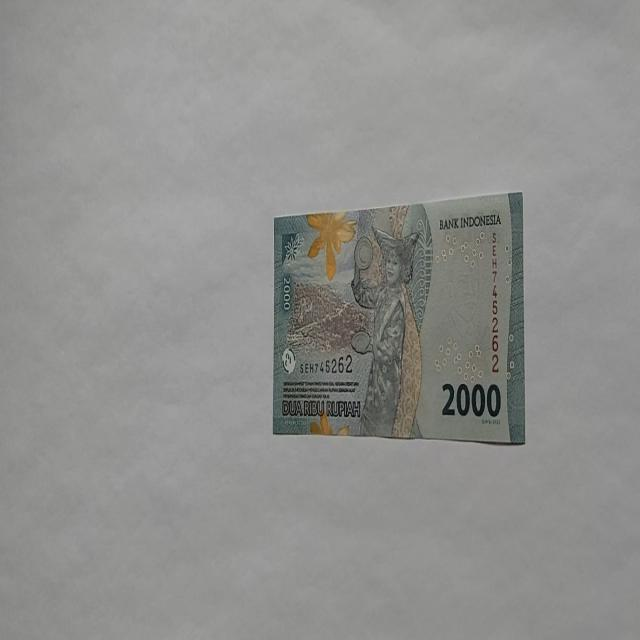dua ribu rupiah: (272, 190, 526, 444), (350, 224, 422, 437)
